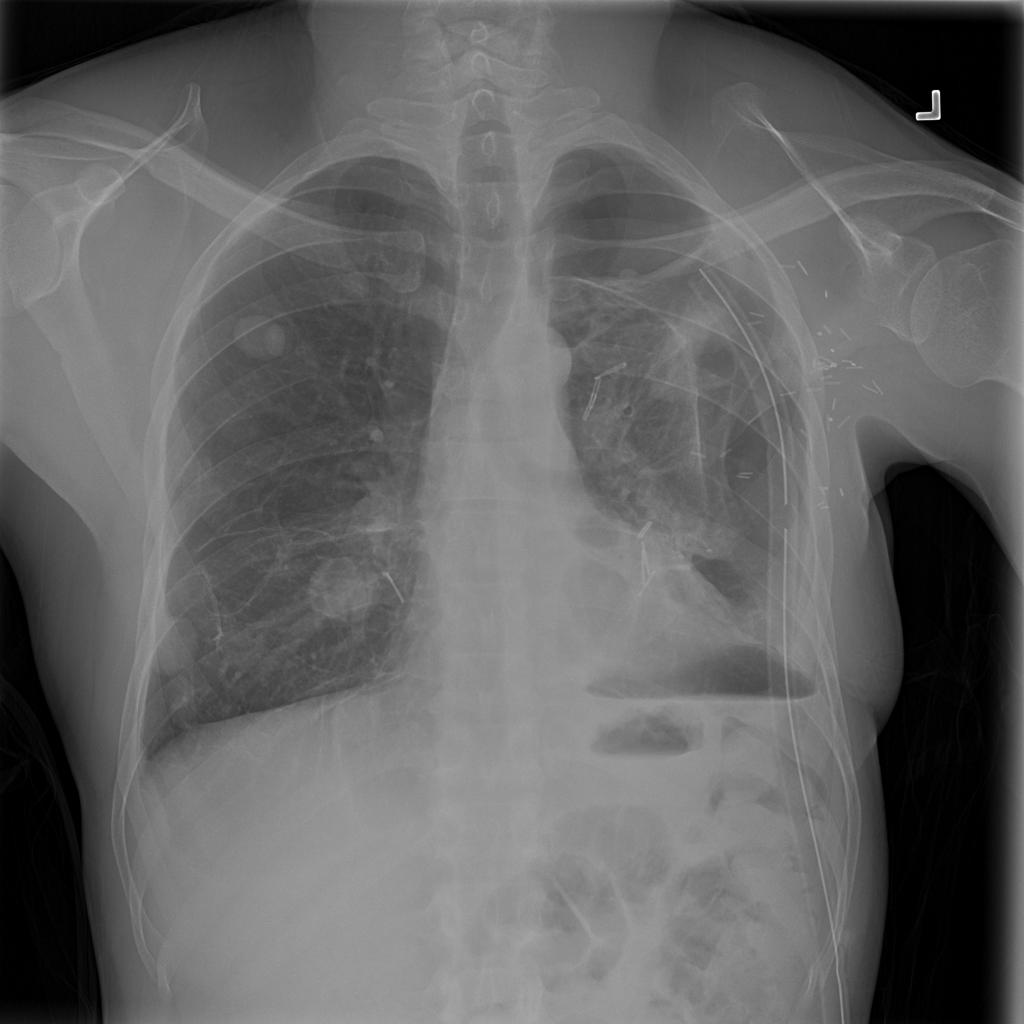nodule: (293, 537, 391, 640), (138, 602, 210, 682), (226, 304, 300, 373)
